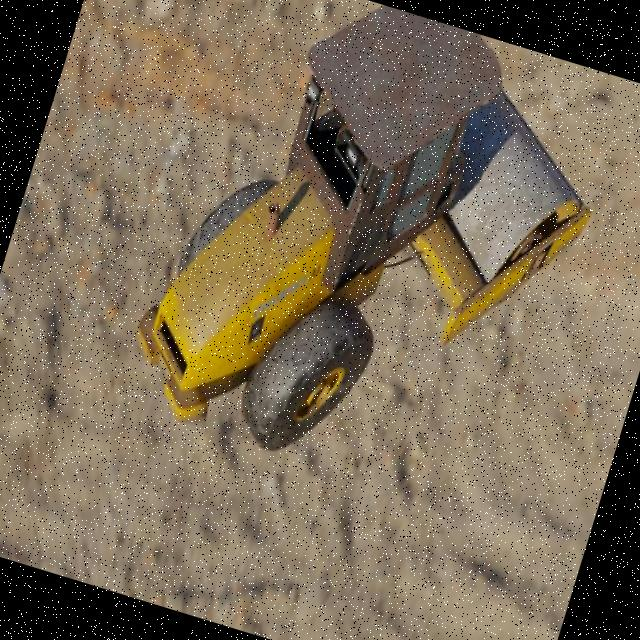Roller: (111, 0, 630, 520)
